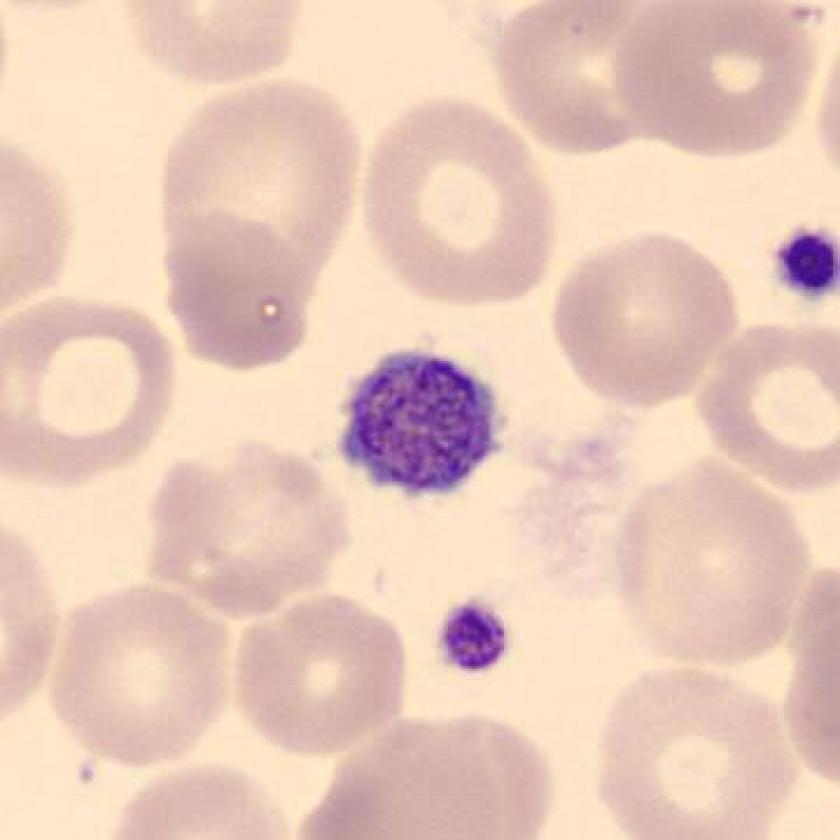platelets: (332, 343, 517, 508), (431, 589, 522, 677), (759, 223, 840, 300)
